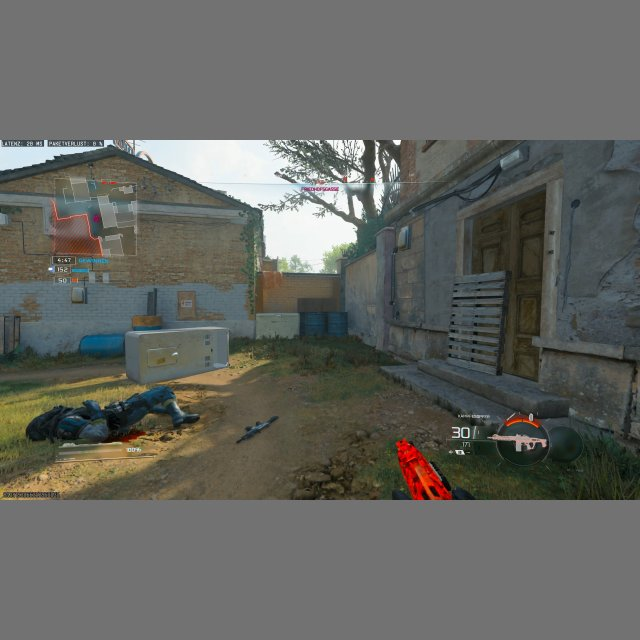head: (25, 412, 53, 441)
